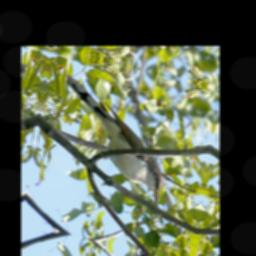Cuckoo: (48, 73, 176, 206)
